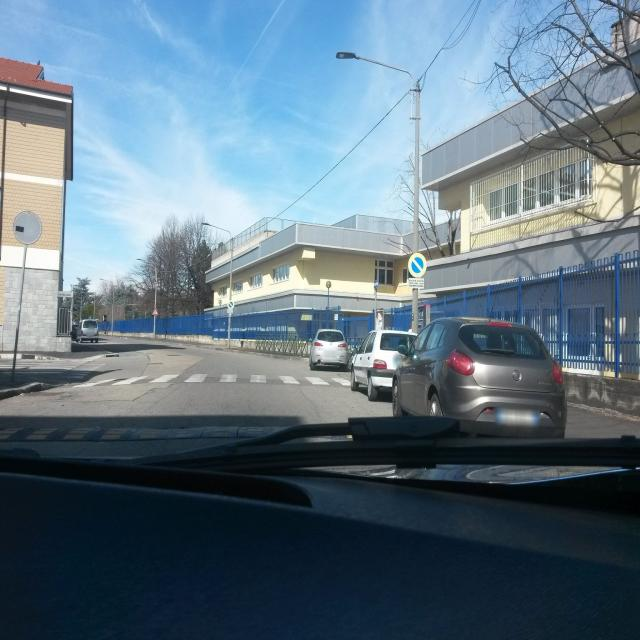forb_stopping: (407, 253, 426, 276)
